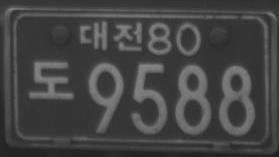0: (174, 20, 202, 58)
5: (129, 61, 169, 136)
8: (217, 63, 256, 138), (173, 63, 212, 136), (146, 20, 172, 56)
9: (86, 60, 125, 135)
대전_O: (78, 20, 143, 53)
도: (27, 60, 76, 101)
